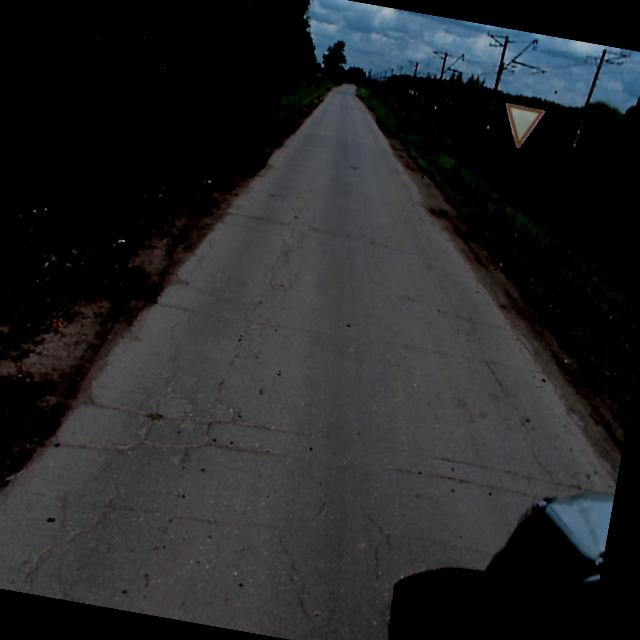road: (0, 79, 615, 640)
